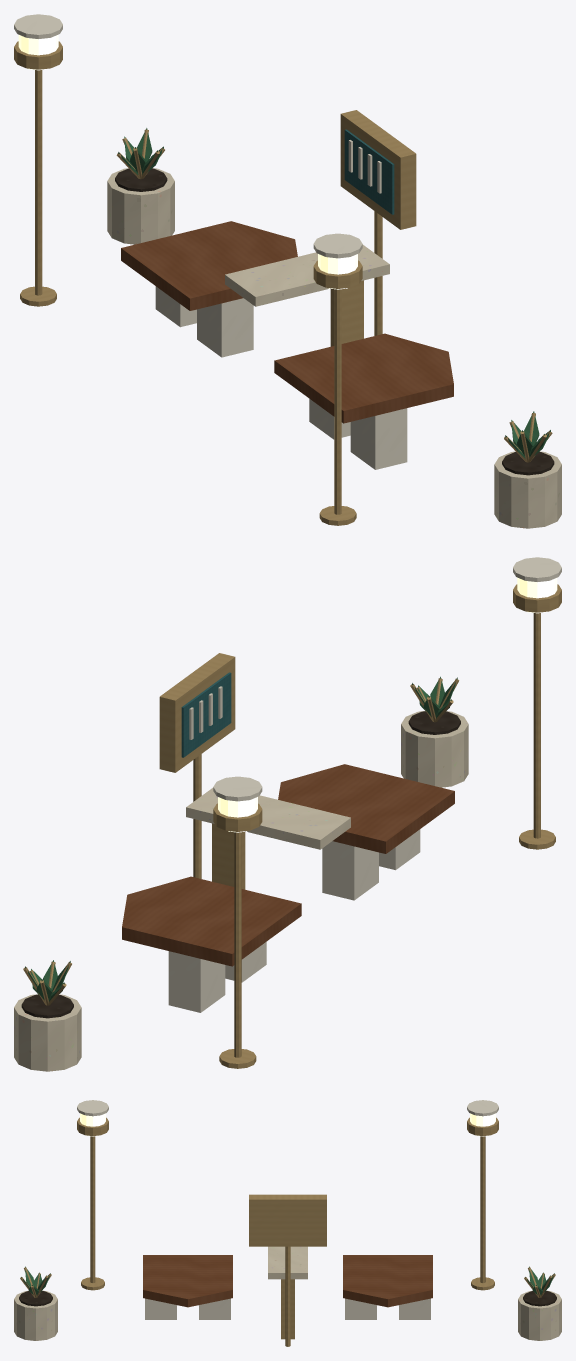
Rendered from G7_Gallery_D15_r001.glb.
3 views of the same model, one above another, from view 1: azimuth 30°, elevation 25°; view 2: azimuth 150°, elevation 25°; view 3: azimuth 270°, elevation 25° (orthographic). The views are drawn at different scales.
Visible parts, largest first — view 1: G7_D15_wood_solid, G7_D15_metal_solid, G7_D15_stone_solid, G7_D15_ivory_solid, G7_D15_teal_solid, G7_D15_soil_solid, G7_D15_leaf_visual_plant, G7_D15_lens_visual_lens, G7_D15_ivory_visual_mark; view 2: G7_D15_wood_solid, G7_D15_metal_solid, G7_D15_stone_solid, G7_D15_ivory_solid, G7_D15_teal_solid, G7_D15_soil_solid, G7_D15_lens_visual_lens, G7_D15_leaf_visual_plant, G7_D15_ivory_visual_mark; view 3: G7_D15_metal_solid, G7_D15_wood_solid, G7_D15_stone_solid, G7_D15_ivory_solid, G7_D15_soil_solid, G7_D15_leaf_visual_plant, G7_D15_lens_visual_lens.
Part boxes in pixels (<box>): G7_D15_wood_solid: <box>121,221,453,423</box>; G7_D15_metal_solid: <box>14,41,552,525</box>; G7_D15_stone_solid: <box>107,168,561,528</box>; G7_D15_ivory_solid: <box>14,14,407,469</box>; G7_D15_teal_solid: <box>344,129,394,214</box>; G7_D15_soil_solid: <box>115,168,554,475</box>; G7_D15_leaf_visual_plant: <box>118,128,550,458</box>; G7_D15_lens_visual_lens: <box>18,34,357,289</box>; G7_D15_ivory_visual_mark: <box>348,140,381,193</box>; G7_D15_wood_solid: <box>122,764,454,966</box>; G7_D15_metal_solid: <box>23,584,561,1068</box>; G7_D15_stone_solid: <box>14,711,468,1071</box>; G7_D15_ivory_solid: <box>168,557,561,1012</box>; G7_D15_teal_solid: <box>181,672,231,757</box>; G7_D15_soil_solid: <box>21,711,460,1018</box>; G7_D15_lens_visual_lens: <box>218,577,557,832</box>; G7_D15_leaf_visual_plant: <box>25,676,457,1001</box>; G7_D15_ivory_visual_mark: <box>189,686,222,739</box>; G7_D15_metal_solid: <box>20,1117,555,1346</box>; G7_D15_wood_solid: <box>143,1255,432,1307</box>; G7_D15_stone_solid: <box>14,1246,561,1340</box>; G7_D15_ivory_solid: <box>77,1100,498,1319</box>; G7_D15_soil_solid: <box>19,1291,556,1306</box>; G7_D15_leaf_visual_plant: <box>21,1266,554,1295</box>; G7_D15_lens_visual_lens: <box>80,1113,495,1136</box>.
Bounding box in the file's own units: 1.65 × 1.97 × 5.48.
8 materials, 8 textured.
